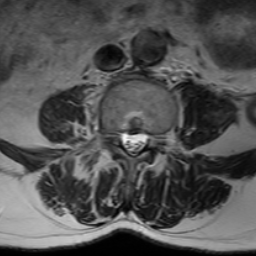CCS_normal: (129, 120, 137, 163)
LFS_normal: (147, 125, 160, 153)
LLS_normal: (137, 120, 147, 157)
RFS_normal: (109, 121, 119, 151)
RLS_normal: (119, 123, 129, 155)
